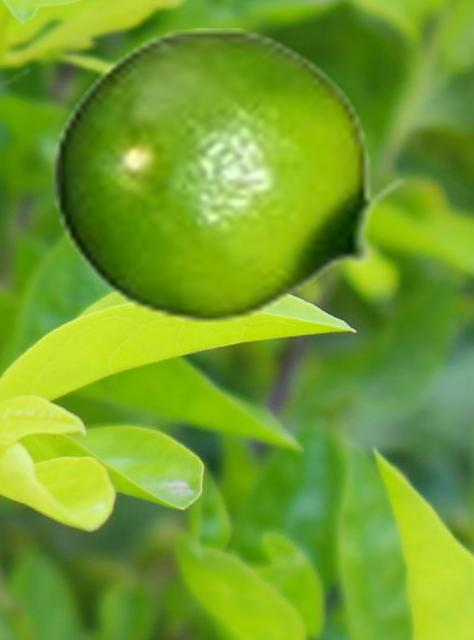calamansi: (50, 28, 408, 324)
